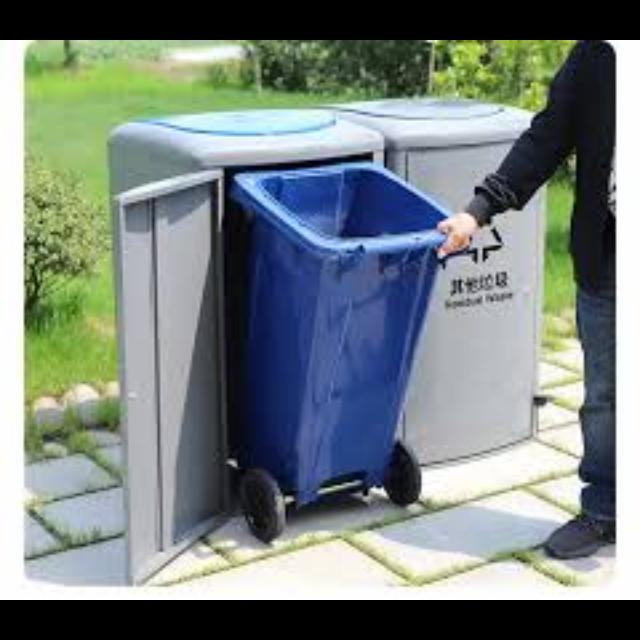Trash_Can_Empty: (231, 160, 457, 495)
